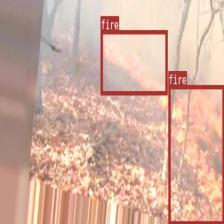fire: (168, 84, 224, 224), (100, 29, 167, 94)
